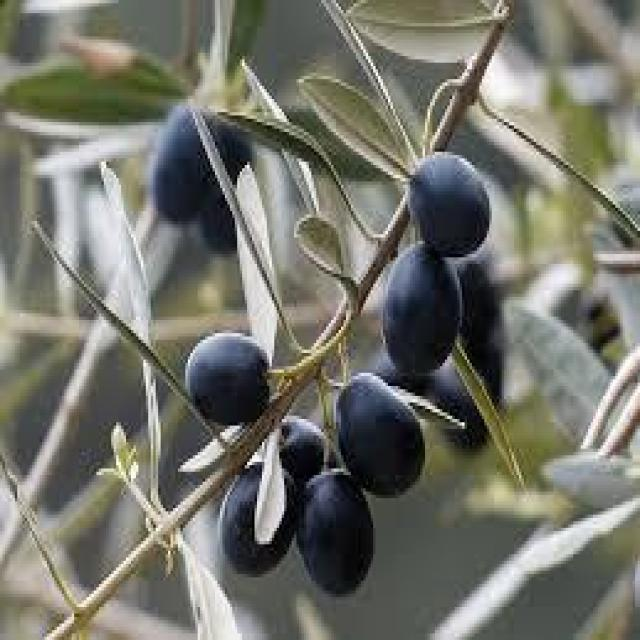Healthy: (336, 373, 423, 495), (384, 239, 463, 373), (297, 468, 371, 594), (408, 152, 489, 257), (185, 332, 267, 422)
